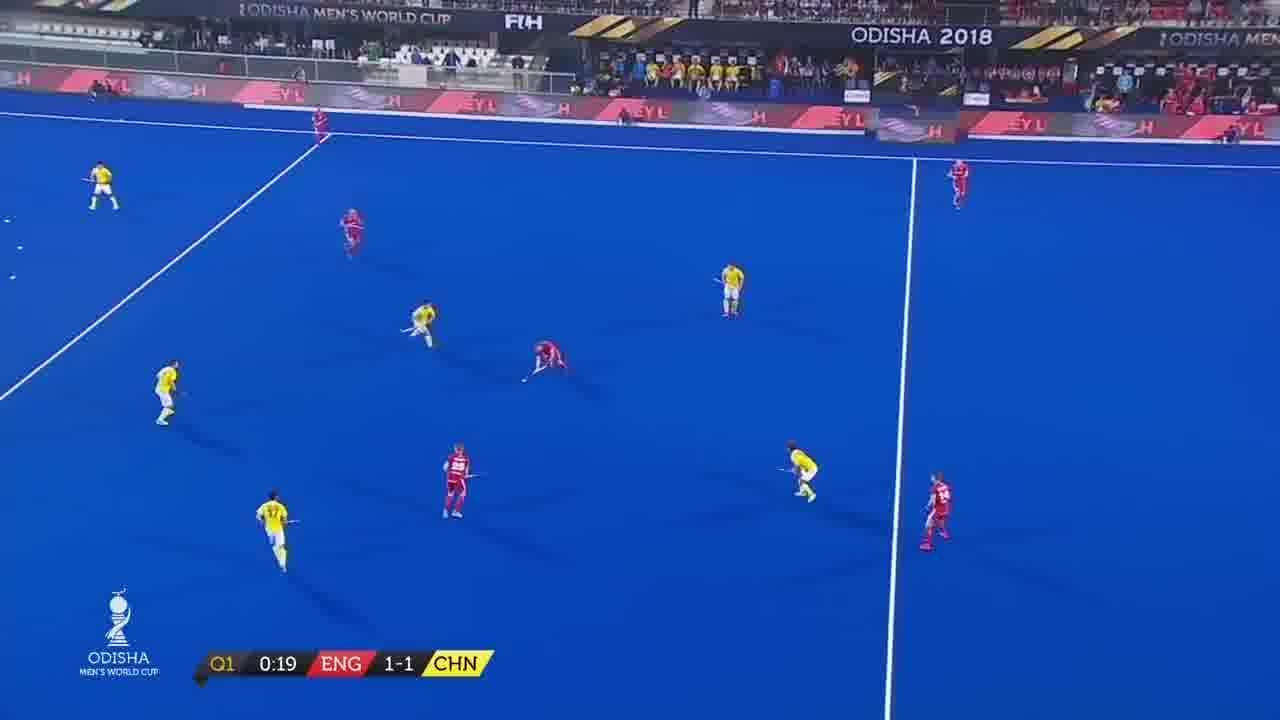ball: (520, 374, 530, 389)
